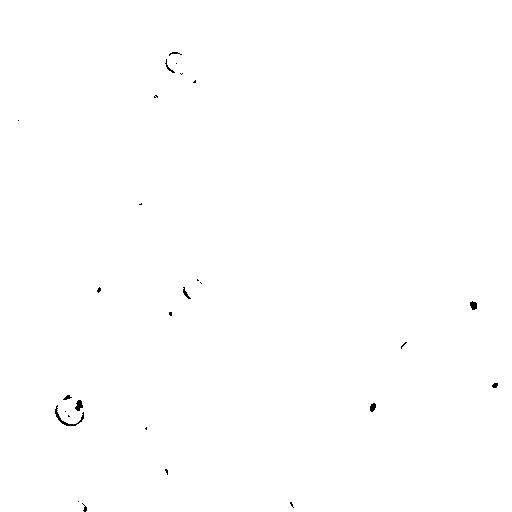micro-algae: (299, 193, 393, 294), (6, 115, 83, 193), (425, 347, 503, 421), (343, 433, 407, 495), (245, 452, 301, 509), (49, 292, 94, 341), (293, 487, 345, 512), (259, 93, 295, 125), (35, 0, 75, 28), (355, 390, 387, 425), (370, 349, 406, 379), (126, 179, 157, 213), (95, 125, 125, 157), (175, 67, 207, 97), (54, 396, 84, 427), (63, 389, 92, 421), (197, 27, 225, 60), (455, 288, 485, 318), (65, 6, 94, 37), (244, 76, 272, 108), (127, 276, 153, 309), (93, 483, 122, 511), (162, 49, 190, 78), (83, 272, 110, 302), (349, 412, 381, 437), (407, 303, 434, 331), (85, 77, 111, 106), (213, 64, 245, 86), (17, 31, 43, 57), (437, 0, 469, 21), (483, 371, 510, 395), (398, 340, 421, 367), (69, 40, 89, 71), (217, 481, 246, 502), (181, 275, 203, 302), (177, 105, 205, 126), (291, 79, 315, 103), (238, 138, 263, 161), (167, 384, 191, 407), (142, 419, 165, 443), (167, 460, 191, 483), (470, 345, 493, 369), (159, 297, 180, 323), (287, 107, 306, 129), (355, 205, 372, 229), (288, 489, 305, 511), (429, 397, 445, 420), (361, 87, 380, 105), (133, 302, 149, 323), (151, 466, 170, 483), (4, 109, 25, 124), (503, 345, 511, 378), (68, 499, 87, 511), (502, 273, 512, 295), (25, 183, 37, 200), (309, 0, 330, 9)
